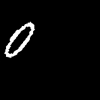chain: (5, 22, 33, 56)
